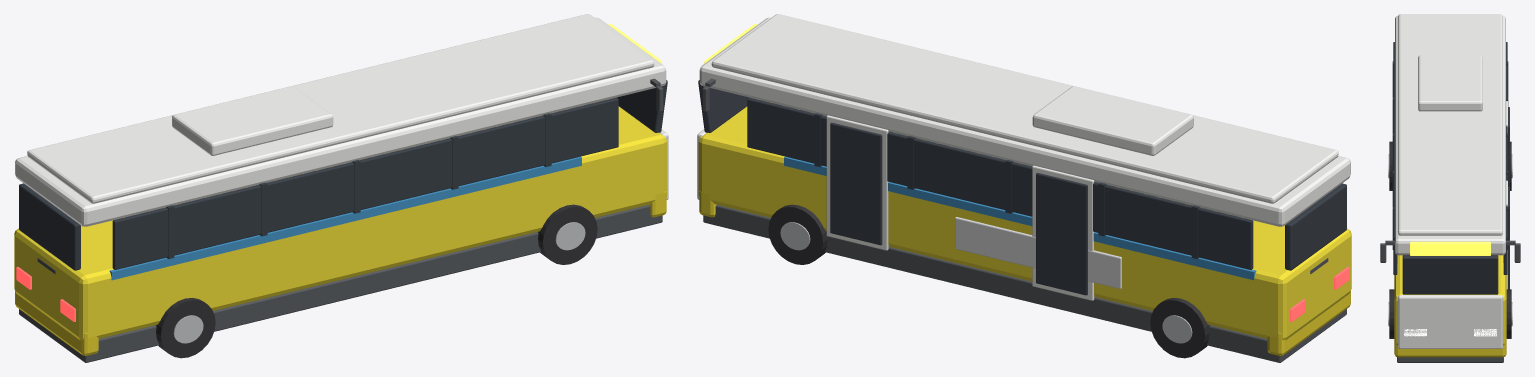
Rendered from bus-transmac.glb.
The picture shows the model from 3 angles, left to right: view 1: azimuth 30°, elevation 25°; view 2: azimuth 150°, elevation 25°; view 3: azimuth 270°, elevation 25°; orthographic projection. The views are drawn at different scales.
Parts seen in each view (by area): view 1: TRM lower, TRM roof, TRM glassR, TRM upper, TRM skirt, TRM ac, TRM stripe-1.22, TRM rearglass, TRM tyre3.9-1.05, TRM tyre-3.9-1.05, TRM windshield, TRM rearbumper (+2 smaller); view 2: TRM roof, TRM lower, TRM glassL, TRM upper, TRM skirt, TRM ac, TRM door2.7, TRM door-1.5, TRM loompanel, TRM stripe1.22, TRM rearglass, TRM tyre-3.91.05 (+7 smaller); view 3: TRM roof, TRM frontmask, TRM windshield, TRM ac, TRM upper, TRM sign, TRM lower, TRM frontbumper, TRM skirt, TRM glassR, TRM glassL, TRM tyre3.9-1.05 (+8 smaller).
Boxes of the visible parts, x1,y1,x2,y2 form: TRM lower: [14, 106, 667, 340]; TRM roof: [27, 14, 654, 203]; TRM glassR: [112, 97, 618, 269]; TRM upper: [15, 17, 666, 226]; TRM skirt: [19, 205, 662, 362]; TRM ac: [172, 86, 333, 155]; TRM stripe-1.22: [109, 156, 581, 280]; TRM rearglass: [19, 183, 80, 270]; TRM tyre3.9-1.05: [538, 204, 597, 264]; TRM tyre-3.9-1.05: [156, 298, 215, 358]; TRM windshield: [617, 80, 667, 132]; TRM rearbumper: [15, 291, 98, 355]; TRM roof: [711, 14, 1338, 203]; TRM lower: [698, 106, 1351, 340]; TRM glassL: [747, 97, 1253, 269]; TRM upper: [699, 17, 1350, 226]; TRM skirt: [703, 205, 1346, 362]; TRM ac: [1032, 86, 1193, 155]; TRM door2.7: [830, 122, 882, 245]; TRM door-1.5: [1036, 172, 1087, 295]; TRM loompanel: [955, 217, 1121, 288]; TRM stripe1.22: [784, 156, 1256, 280]; TRM rearglass: [1285, 183, 1346, 270]; TRM tyre-3.91.05: [1150, 298, 1209, 358]; TRM roof: [1398, 14, 1502, 235]; TRM frontmask: [1398, 295, 1502, 348]; TRM windshield: [1402, 255, 1498, 294]; TRM ac: [1418, 55, 1482, 111]; TRM upper: [1395, 16, 1505, 255]; TRM sign: [1410, 241, 1490, 255]; TRM lower: [1394, 255, 1506, 345]; TRM frontbumper: [1394, 338, 1506, 357]; TRM skirt: [1397, 357, 1503, 362]; TRM glassR: [1393, 42, 1397, 274]; TRM glassL: [1503, 42, 1507, 274]; TRM tyre3.9-1.05: [1389, 289, 1394, 338].
Bounding box in the file's own units: 12.11 × 3.7 × 3.13.
